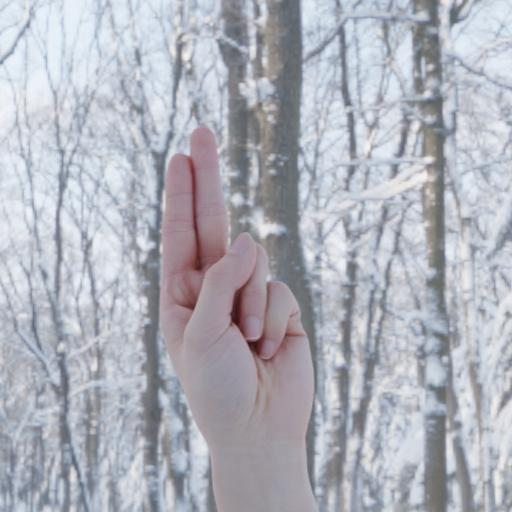U: (150, 120, 329, 479)
